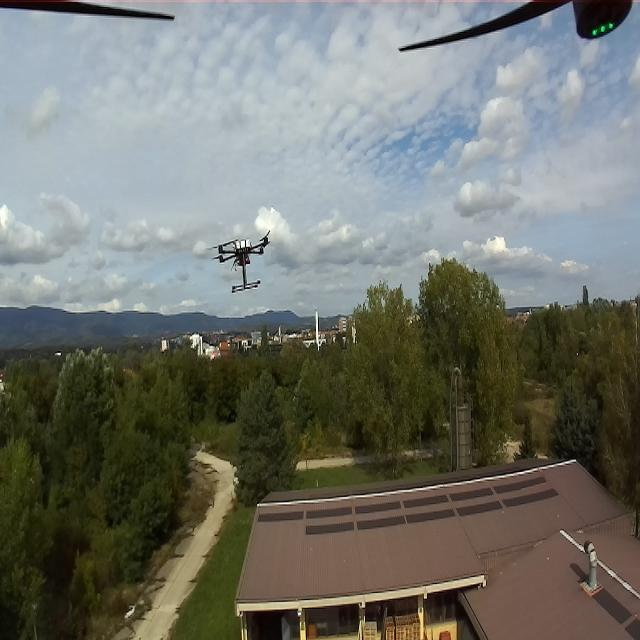UAV: (204, 227, 278, 290)
